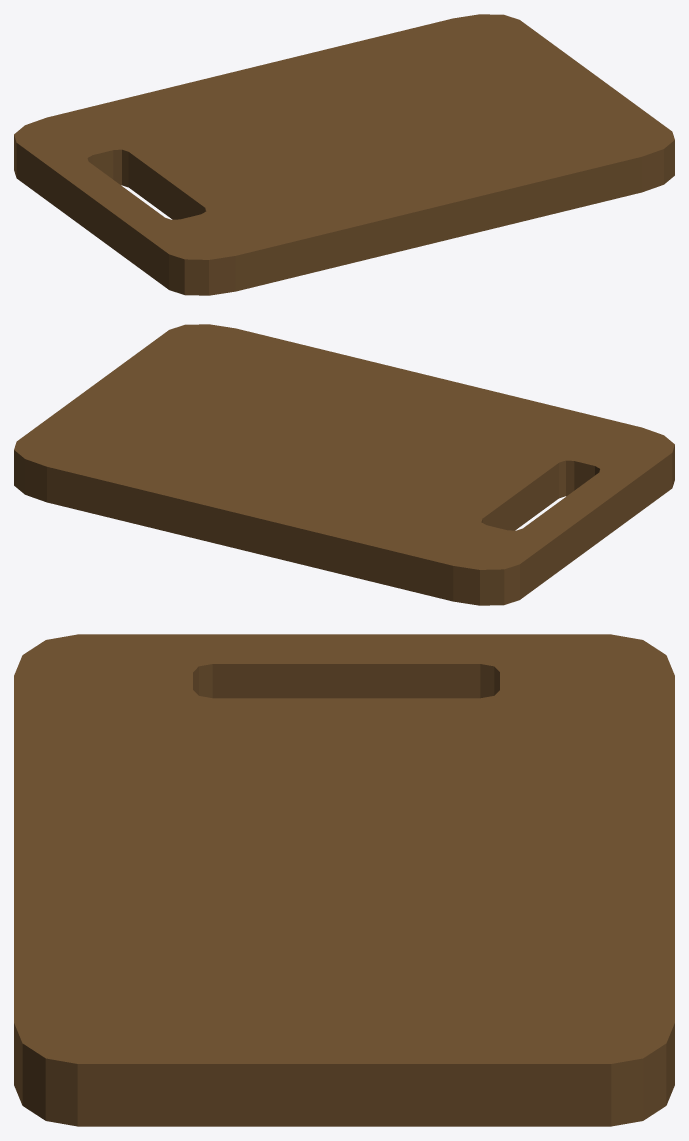
The model's file is ChoppingBoard.fbx.
The picture shows the model from 3 angles, top to bottom: view 1: azimuth 30°, elevation 25°; view 2: azimuth 150°, elevation 25°; view 3: azimuth 270°, elevation 25°; orthographic projection. The views are drawn at different scales.
Parts seen in each view (by area): view 1: Cube; view 2: Cube; view 3: Cube.
Part boxes in pixels (x1,y1,x2,y2): Cube: (14, 14, 674, 295); Cube: (14, 324, 674, 605); Cube: (14, 634, 674, 1126).
Size of the model in its own units: 35 by 2.38 by 22.76.
